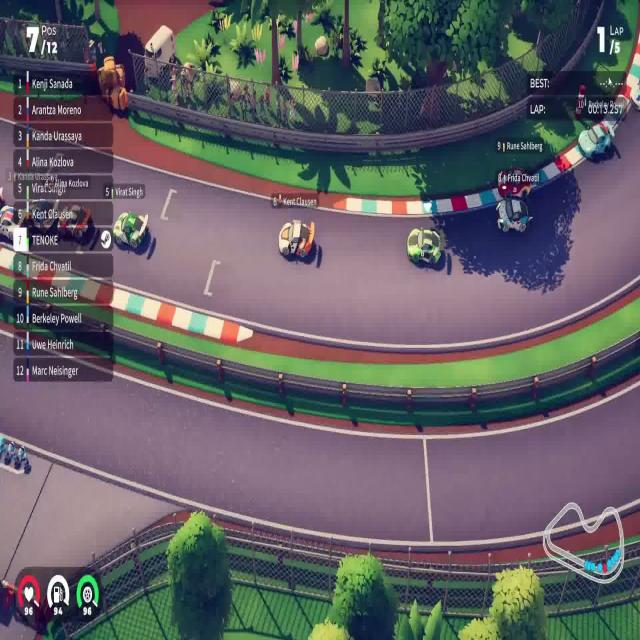car: (495, 193, 533, 235), (277, 218, 315, 260), (578, 119, 616, 161), (112, 209, 149, 251), (406, 226, 443, 267), (498, 165, 532, 199)
